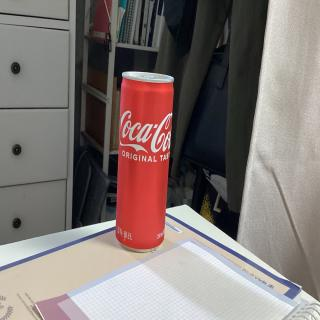cocacola: (113, 69, 176, 257)
